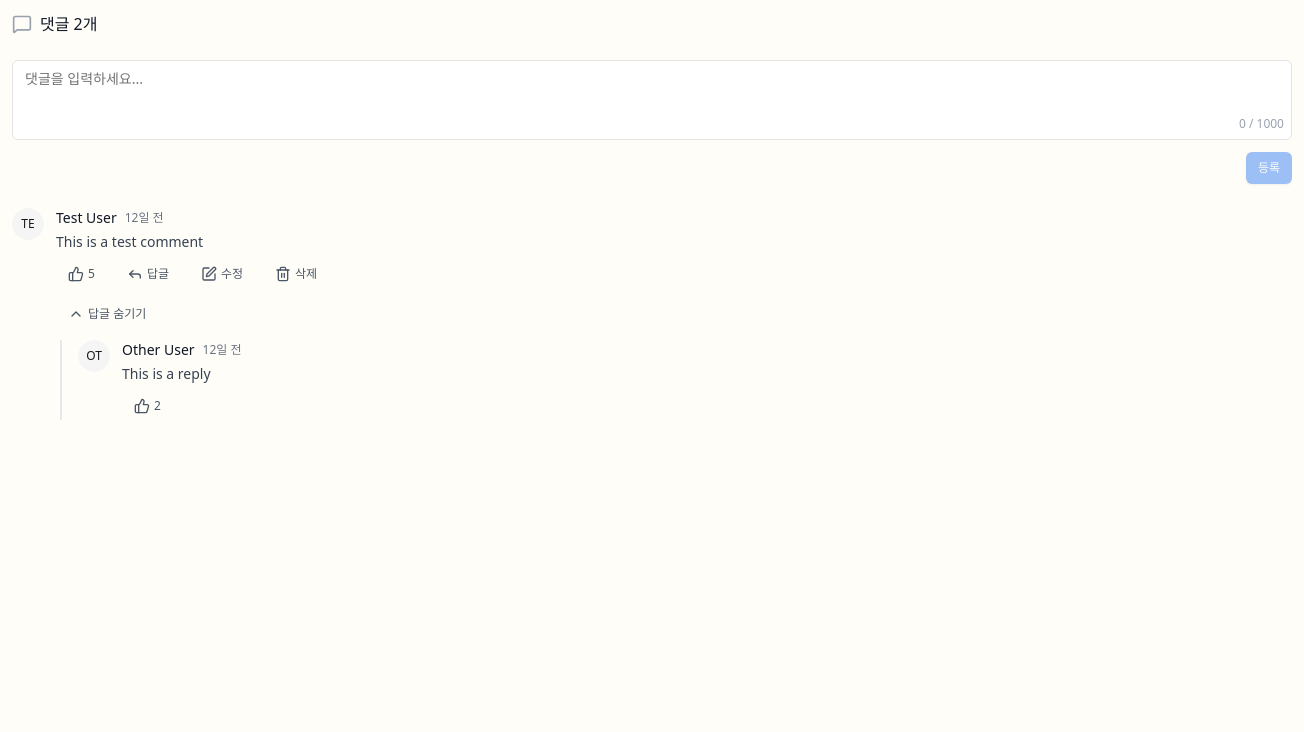
Test case: CommentList › should show reply form when reply button clicked
Click the button "답글" at (148, 274), box [115,260,181,288]
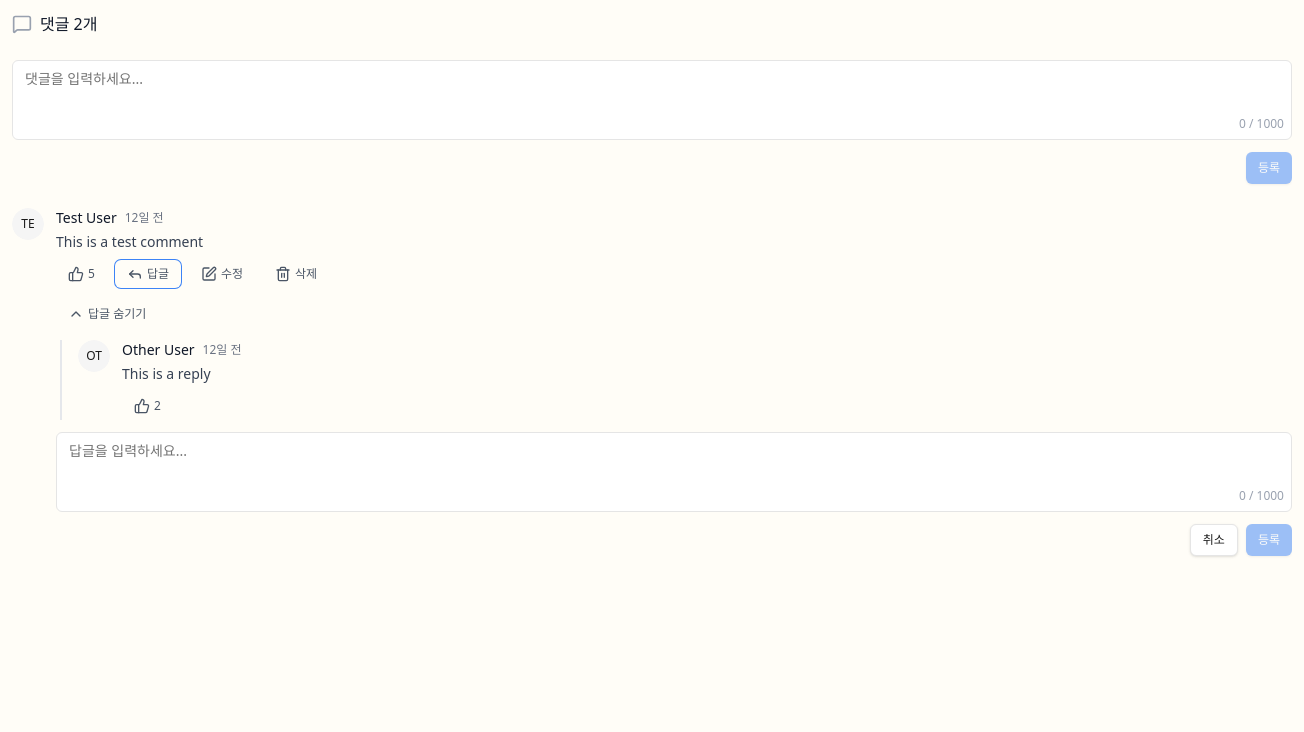
expect the text box with placeholder "답글을 입력하세요..." is shown: met, box [56,432,1292,512]
